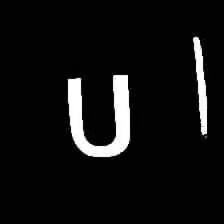LTR_U: (56, 67, 139, 162)
